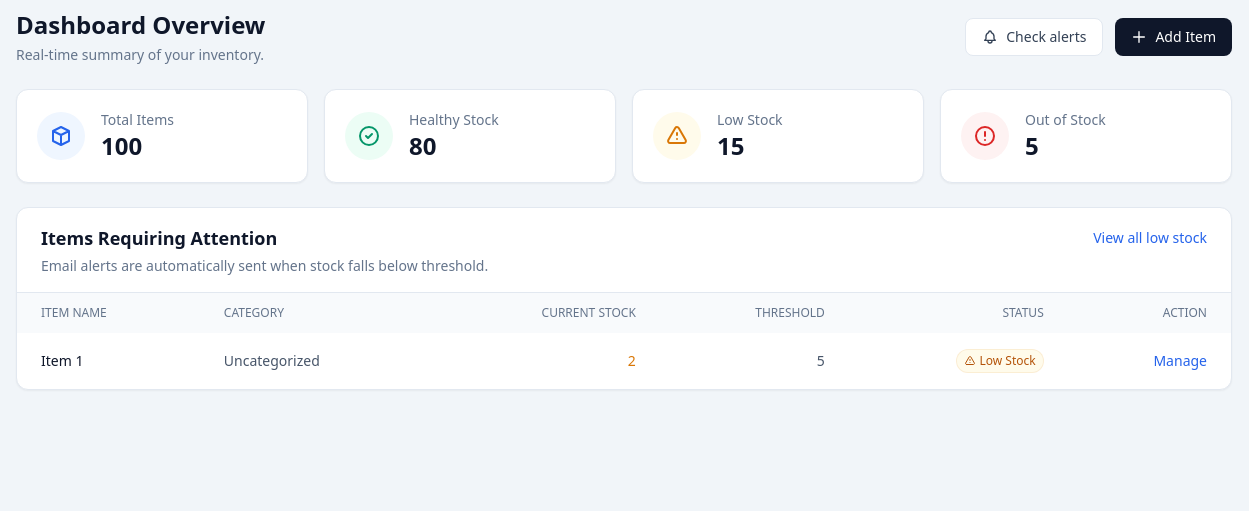
DashboardPage.vue › handles alert check rejection with notification and UI feedback
Click the button "Check alerts": (1034, 37) left=965, top=18, right=1103, bottom=56
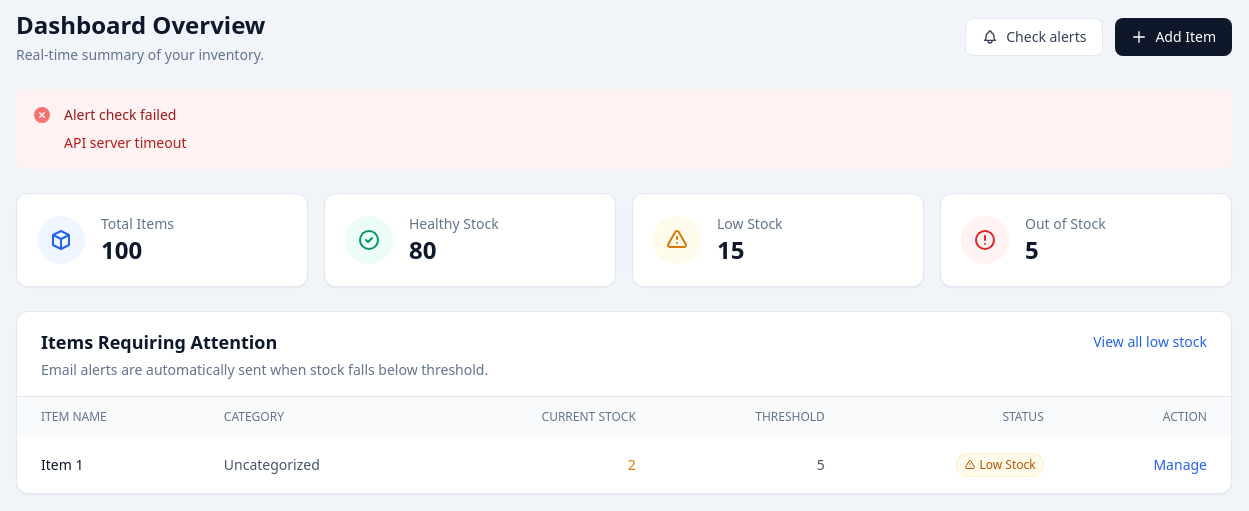
Check: the text "API server timeout" is shown, box left=64, top=133, right=186, bottom=153
